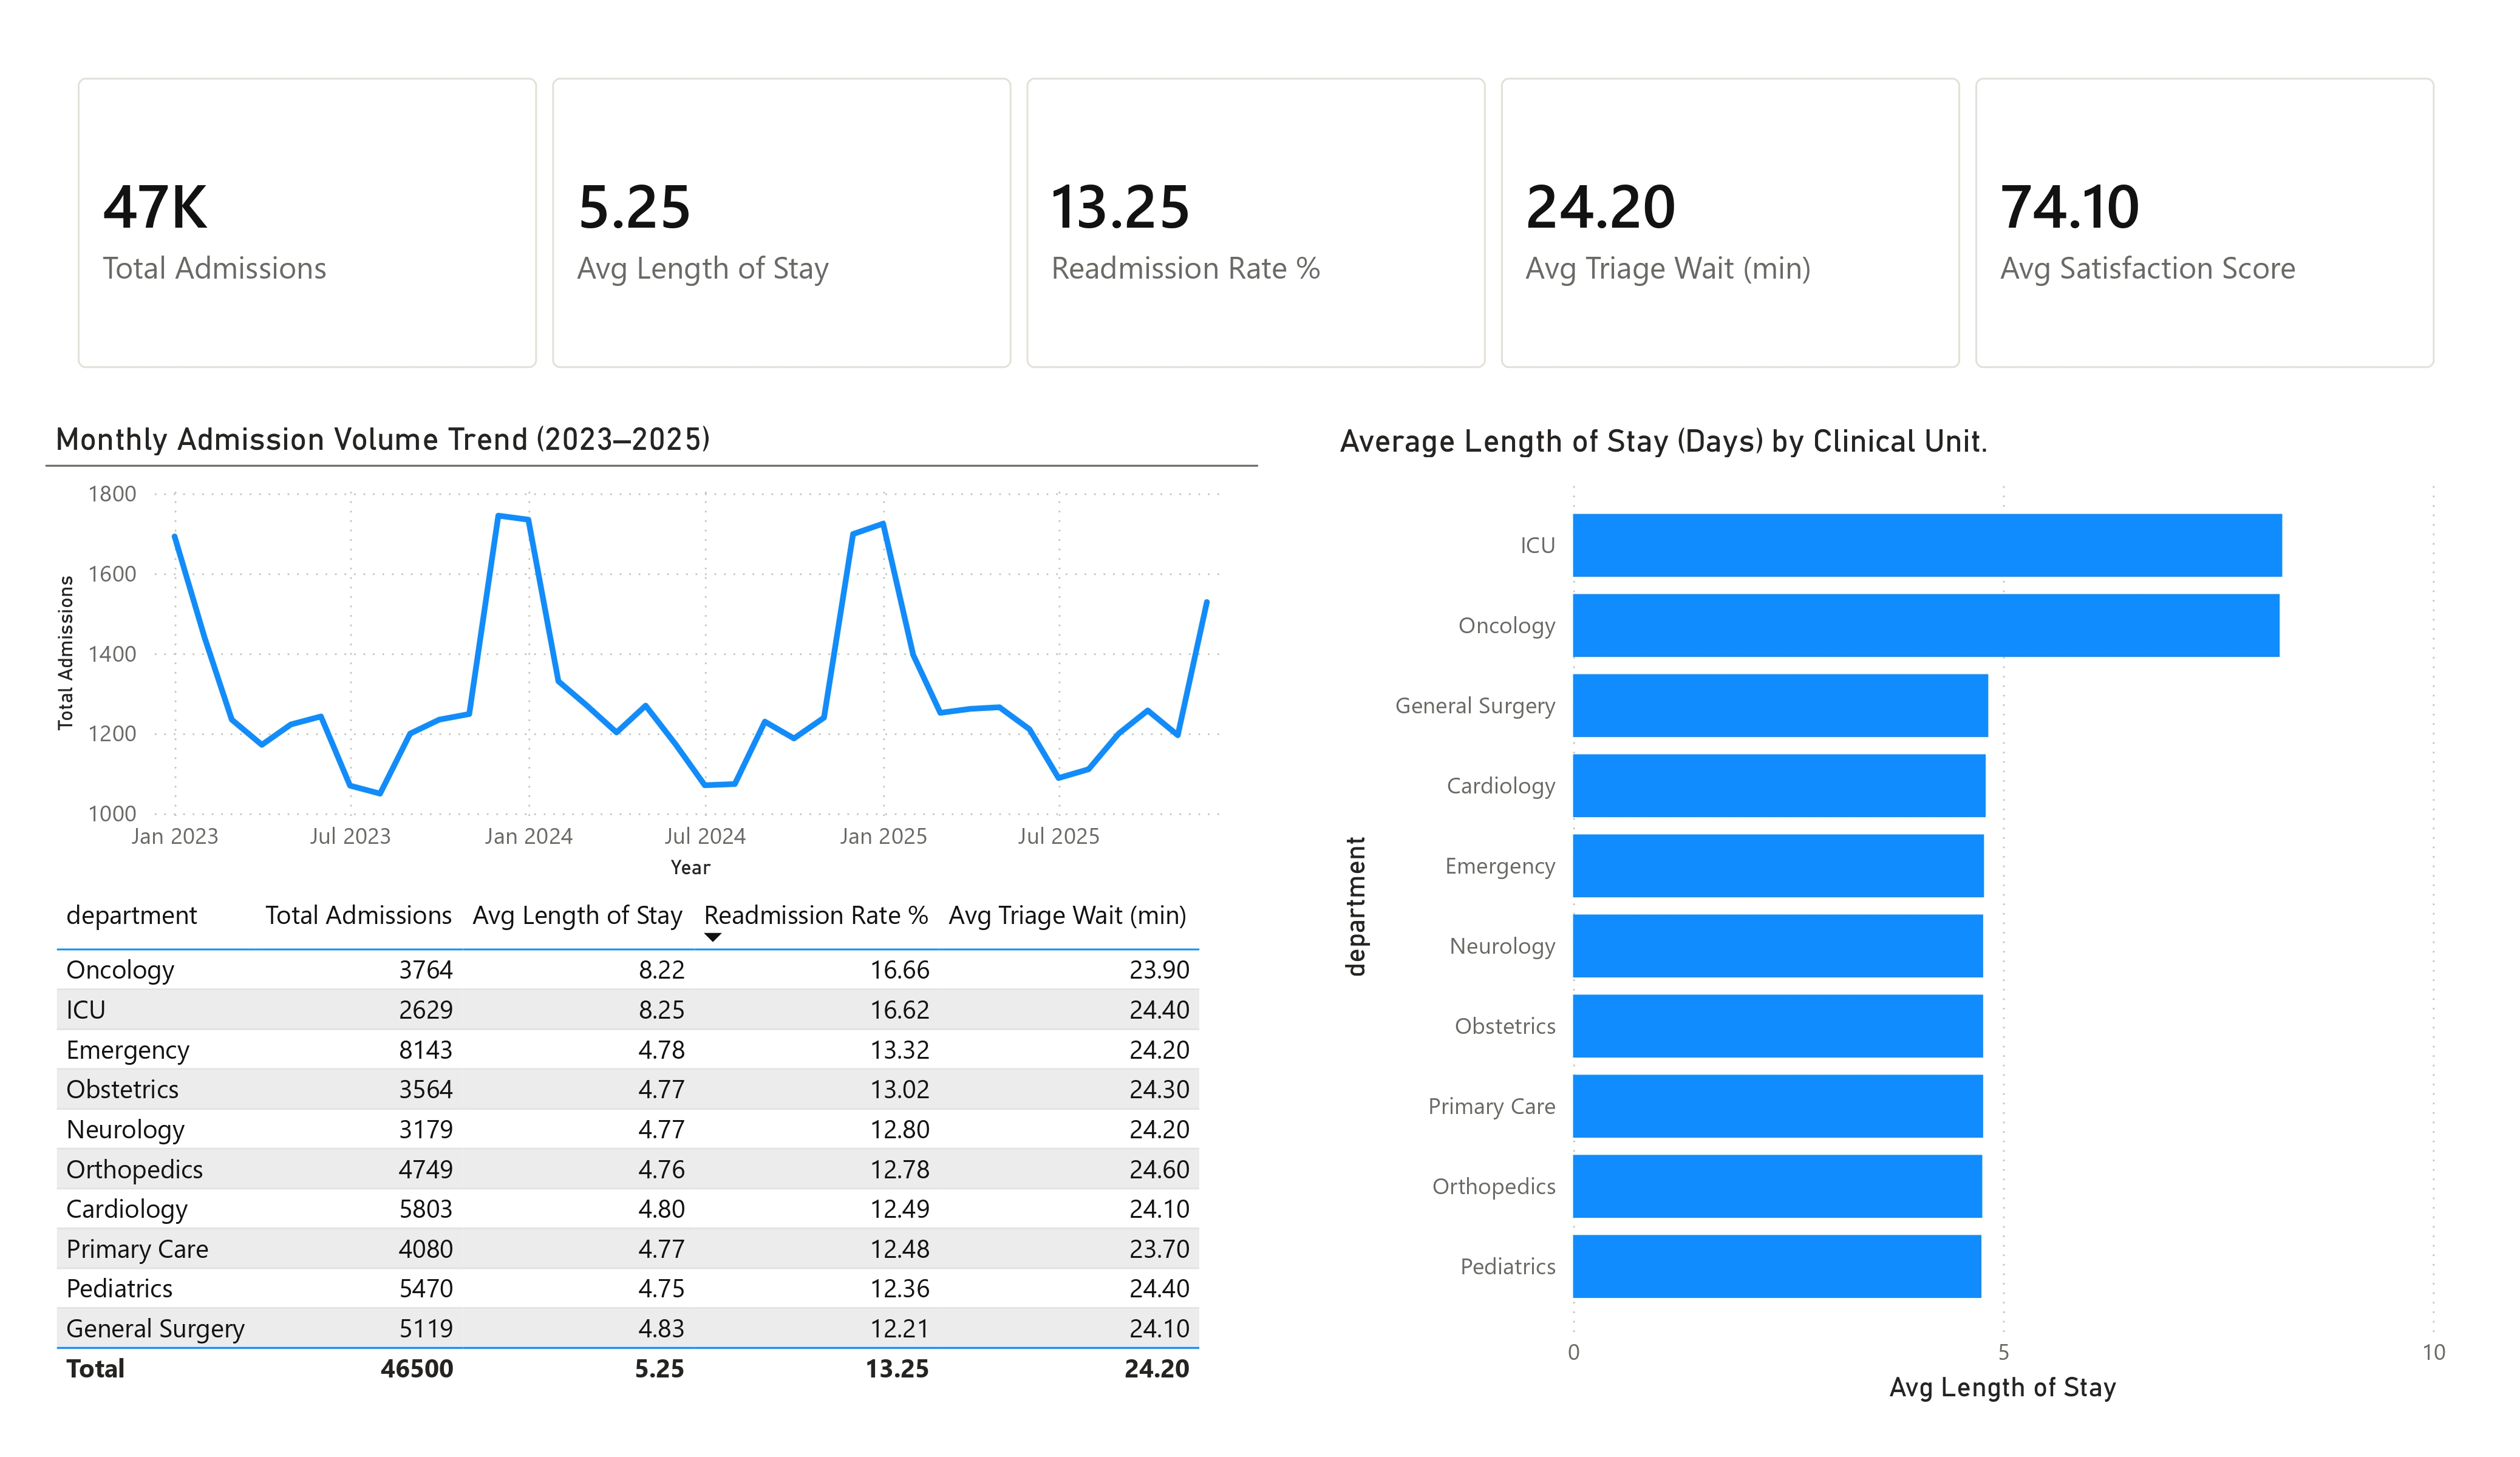

The page's visual inventory and layout, read from the dashboard file:
{"tool":"powerbi","page":{"name":"Executive Summary","canvas":[1280,720],"ordinal":0},"visuals":[{"type":"cardVisual","fields":{"Data":["admissions_features.Total Admissions","admissions_features.Avg Length of Stay","admissions_features.Readmission Rate %","admissions_features.Avg Triage Wait (min)","admissions_features.Avg Satisfaction Score"]},"box":[0,0,1278.8,187.1],"z":0},{"type":"lineChart","title":"Monthly Admission Volume Trend (2023–2025)","fields":{"Y":["admissions_features.Total Admissions"],"Category":["Calendar.Date.Variation.Date Hierarchy.Year","Calendar.Date.Variation.Date Hierarchy.Month"]},"box":[0,197.3,638.7,245.5],"z":1000},{"type":"clusteredBarChart","title":"Average Length of Stay (Days) by Clinical Unit.","fields":{"Category":["departments.department"],"Y":["admissions_features.Avg Length of Stay"]},"box":[638.7,197.3,640.1,245.5],"z":2000},{"type":"tableEx","fields":{"Values":["departments.department","admissions_features.Total Admissions","admissions_features.Avg Length of Stay","admissions_features.Readmission Rate %","admissions_features.Avg Triage Wait (min)"]},"box":[0,442.8,1278.8,277.7],"z":3000}]}

Visuals, with their boxes on the page's 1280x720 design canvas (x1, y1, x2, y2). These are canvas units, not pixel positions in the 2520x1457 screenshot, which may show the page scaled, cropped or inside an application window:
cardVisual - admissions_features.Total Admissions x admissions_features.Avg Length of Stay: x1=0 y1=0 x2=1279 y2=187
"Monthly Admission Volume Trend (2023–2025)" lineChart: x1=0 y1=197 x2=639 y2=443
"Average Length of Stay (Days) by Clinical Unit." clusteredBarChart: x1=639 y1=197 x2=1279 y2=443
tableEx - departments.department x admissions_features.Total Admissions: x1=0 y1=443 x2=1279 y2=720
